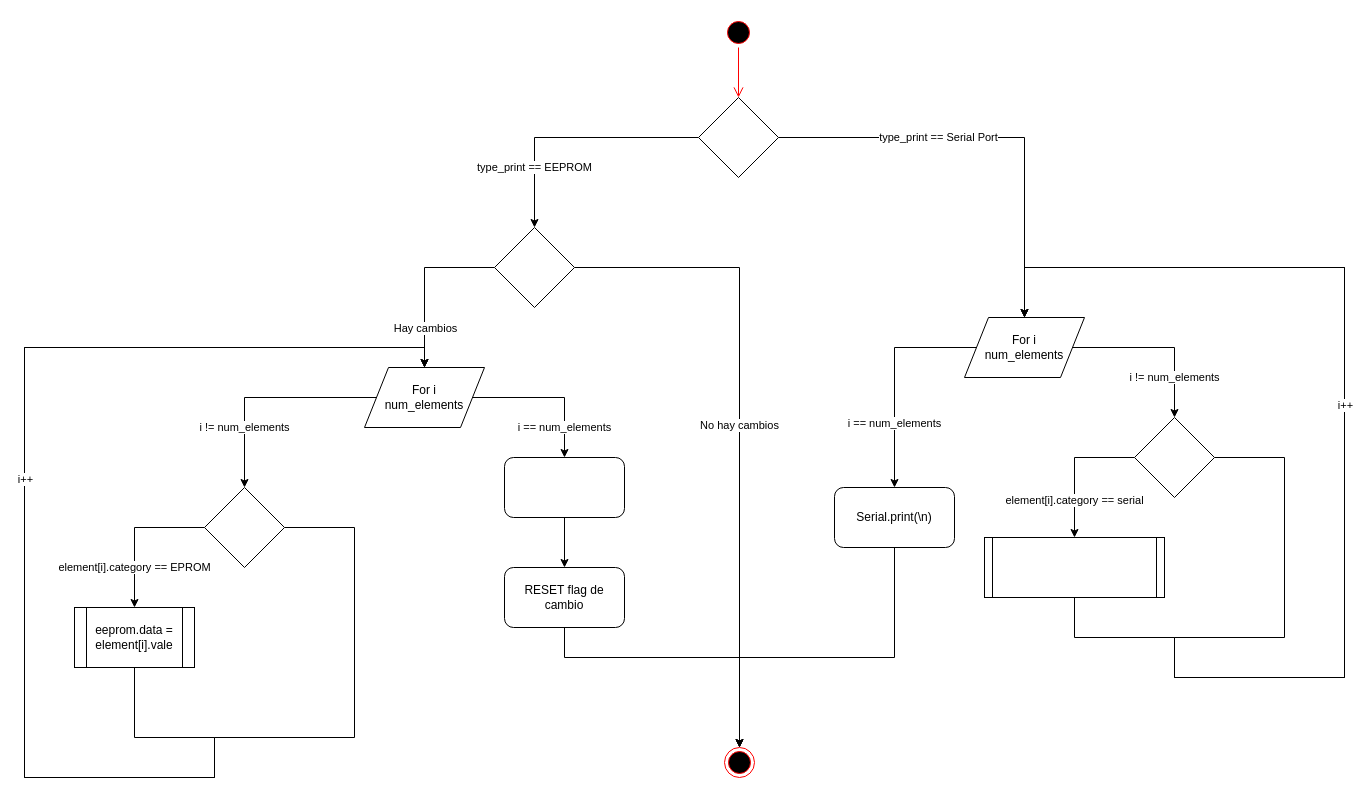
Image size: 1370x803. Some labels were removed from this diagram. The shapes that lost their labels are listed below. From the top down, each one's box as (x1, y1, x2, y2) in pixels, then its label:
(504, 456, 624, 518): Volcado de RAM en FLASH
(984, 536, 1164, 598): Serial.print(elemt[i].value)
